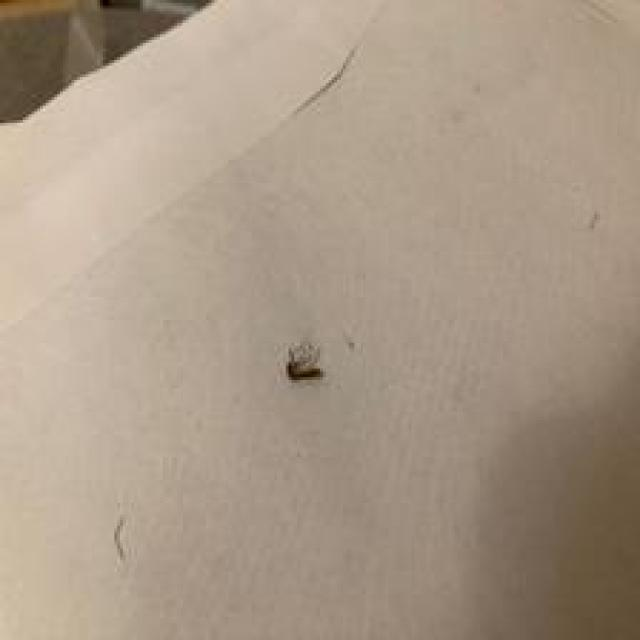Culex: (284, 340, 324, 380)
